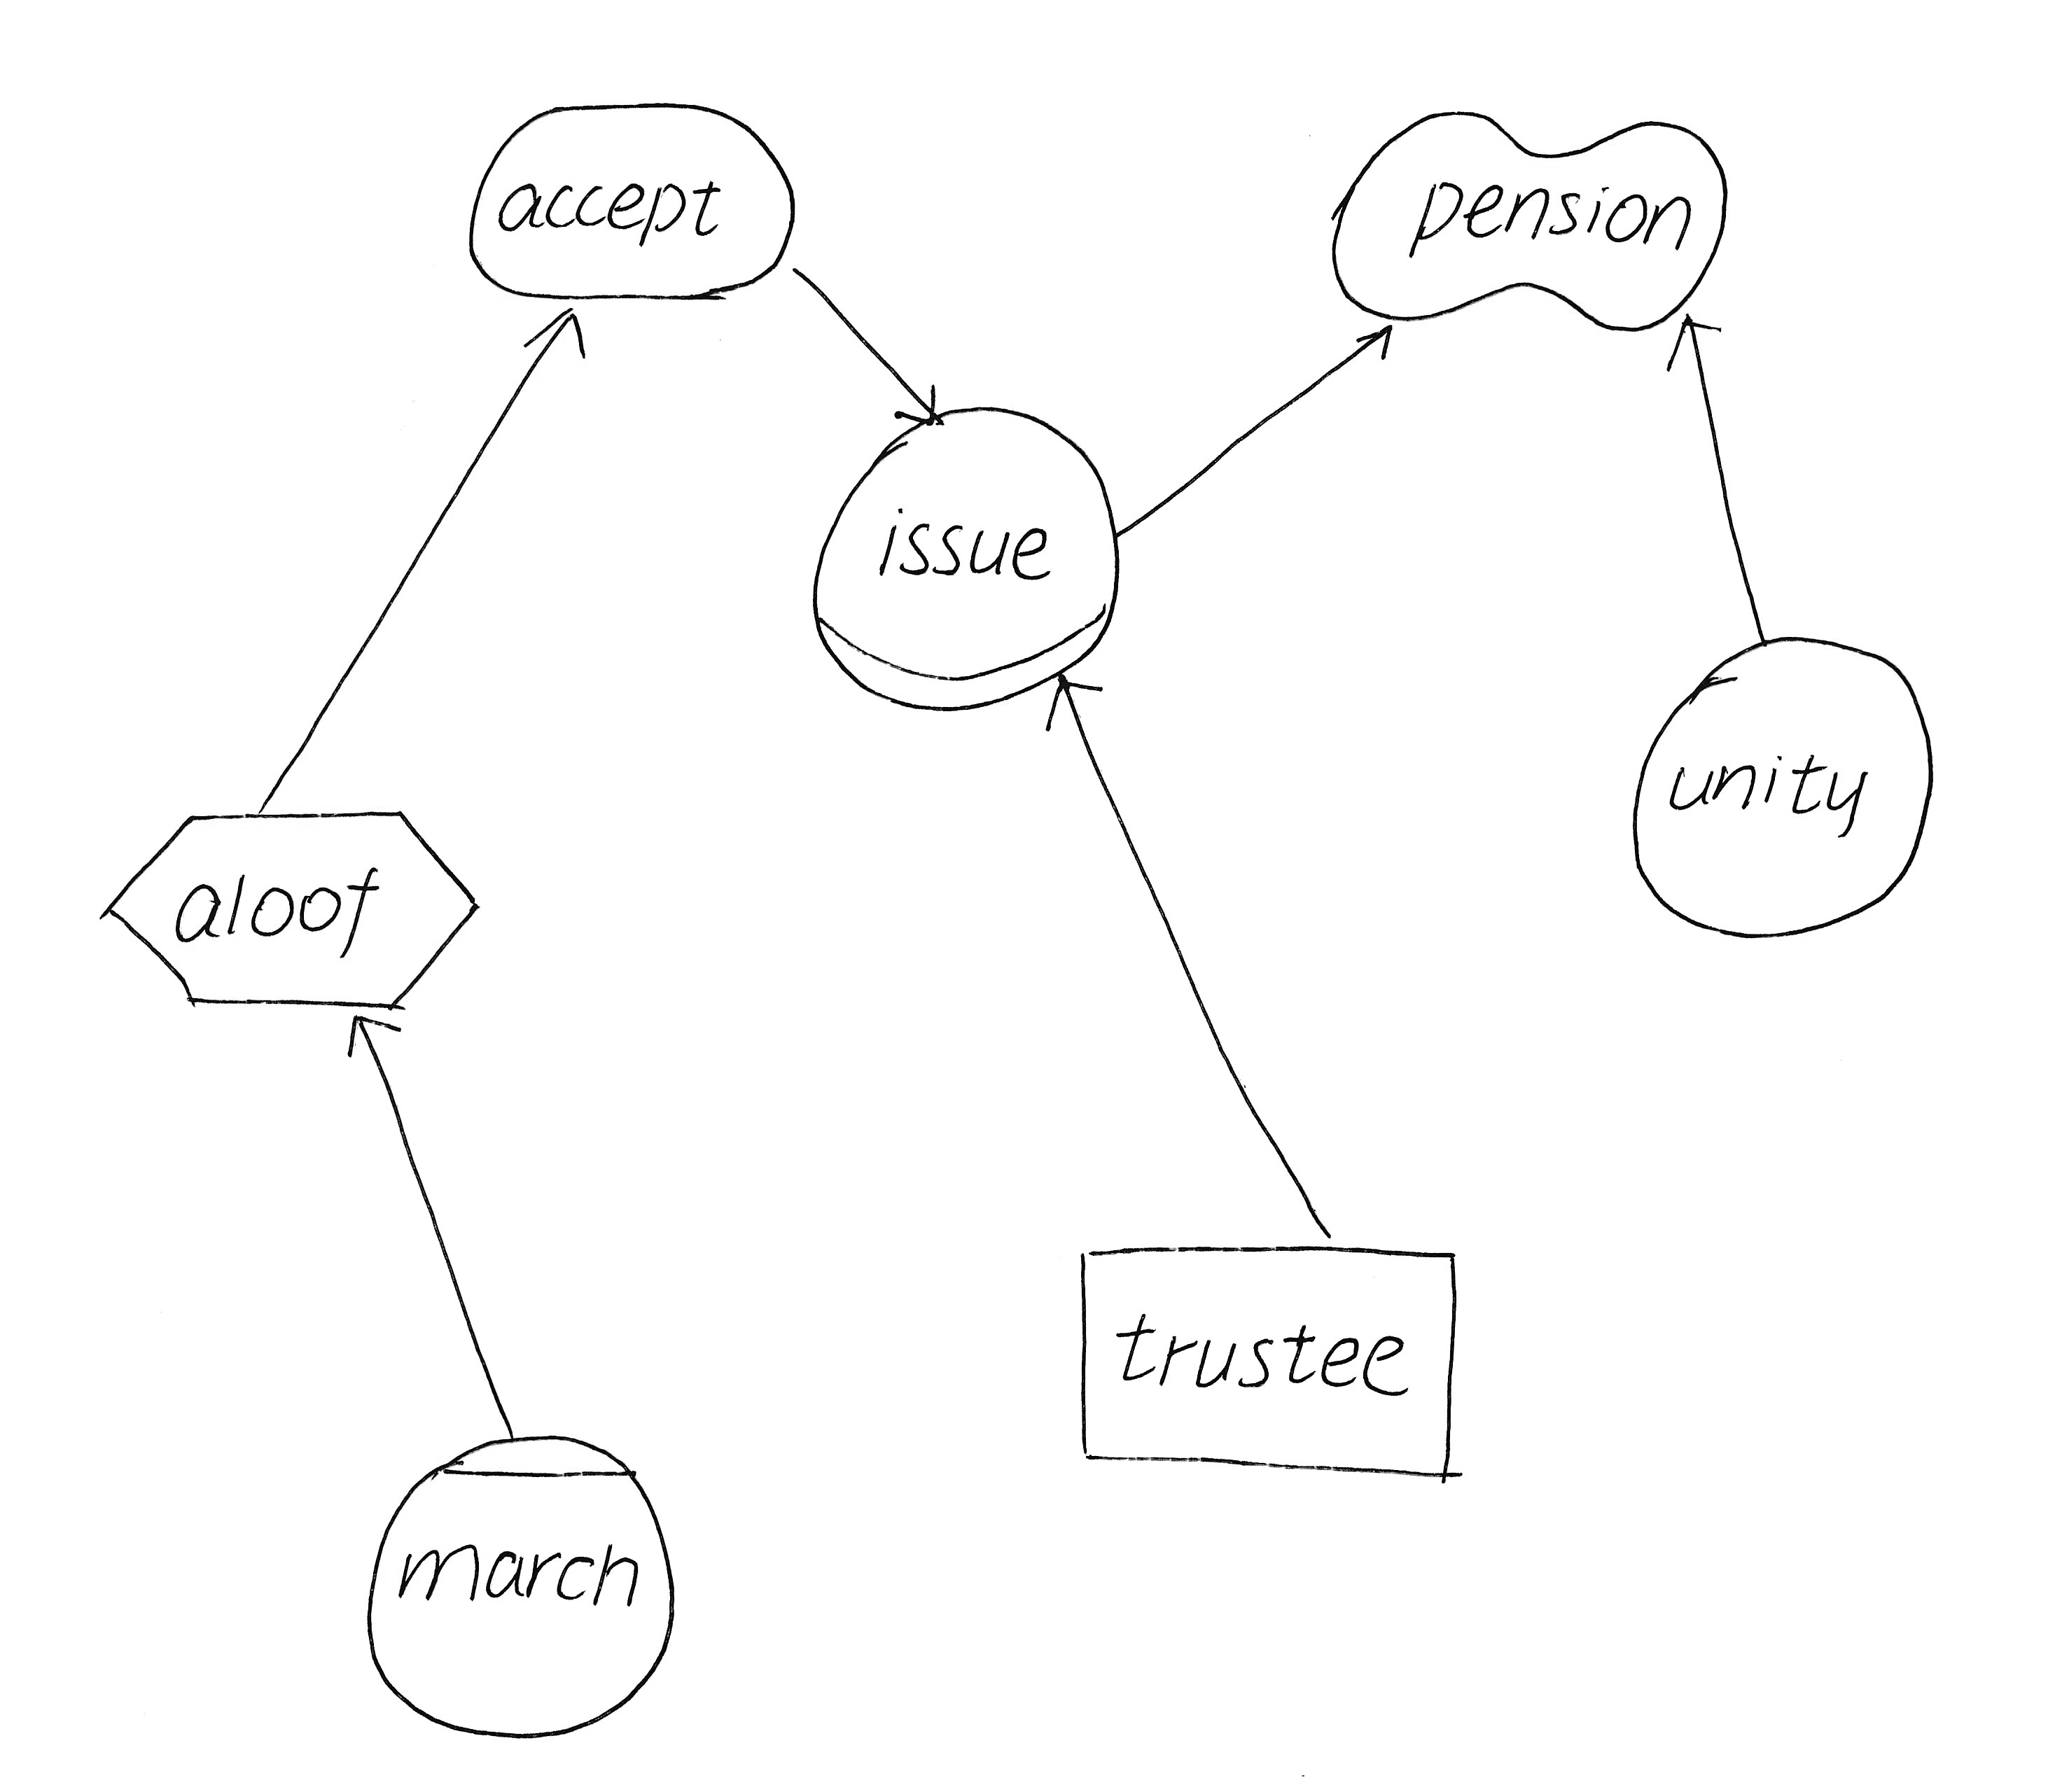actor: (1608, 621, 1948, 948)
agent: (347, 1414, 691, 1750)
arrow: (1027, 661, 1114, 744), (322, 999, 415, 1067), (515, 299, 596, 371), (1661, 304, 1729, 382), (885, 373, 957, 440), (1348, 306, 1407, 376)
goal: (447, 83, 806, 317)
quality: (1312, 90, 1744, 350)
resource: (1054, 1224, 1481, 1500)
role: (799, 392, 1137, 719)
task: (81, 791, 494, 1032)
